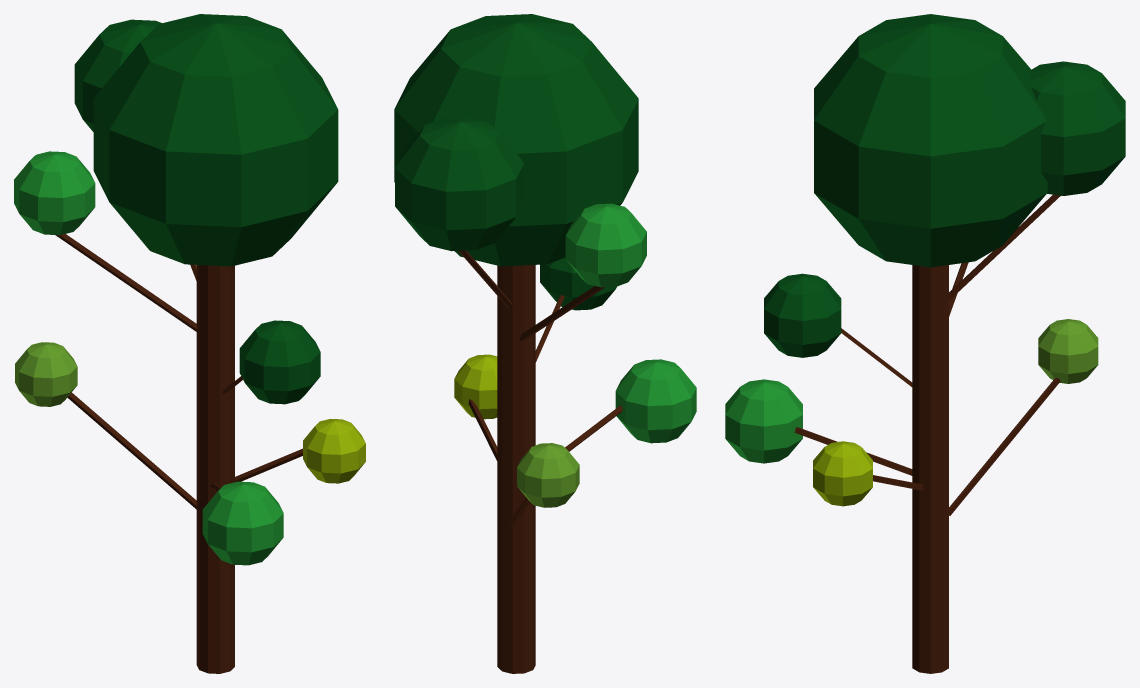
The model's file is jungleTree.fbx.
The picture shows the model from 3 angles, left to right: view 1: azimuth 30°, elevation 25°; view 2: azimuth 150°, elevation 25°; view 3: azimuth 270°, elevation 25°; orthographic projection.
Parts seen in each view (by area): view 1: topTree, trunk, botTreeleaves, topTreeleaves, topTreeleaves1, topTreeleaves2, midTreeleaves, botTreeleaves1, botBranch1, topBranch, botBranch; view 2: topTree, trunk, topTreeleaves2, topTreeleaves1, botTreeleaves, botTreeleaves1, midTreeleaves, topTreeleaves, topBranch, topBranch1, midBranch; view 3: topTree, trunk, topTreeleaves2, topTreeleaves, botTreeleaves, botTreeleaves1, midTreeleaves, botBranch1, topBranch1, midBranch.
Part boxes in pixels (bbox=[...]): topTree: bbox=[93, 14, 338, 266]; trunk: bbox=[196, 265, 234, 673]; botTreeleaves: bbox=[202, 481, 283, 565]; topTreeleaves: bbox=[239, 320, 320, 404]; topTreeleaves1: bbox=[14, 151, 95, 235]; topTreeleaves2: bbox=[74, 19, 161, 131]; midTreeleaves: bbox=[303, 419, 365, 483]; botTreeleaves1: bbox=[15, 342, 77, 406]; botBranch1: bbox=[67, 392, 196, 509]; topBranch: bbox=[55, 234, 196, 331]; botBranch: bbox=[234, 448, 302, 482]; topTree: bbox=[394, 14, 638, 266]; trunk: bbox=[497, 265, 535, 673]; topTreeleaves2: bbox=[395, 117, 524, 251]; topTreeleaves1: bbox=[565, 203, 646, 287]; botTreeleaves: bbox=[615, 359, 696, 443]; botTreeleaves1: bbox=[517, 443, 579, 507]; midTreeleaves: bbox=[454, 354, 497, 419]; topTreeleaves: bbox=[540, 257, 616, 310]; topBranch: bbox=[519, 286, 604, 340]; topBranch1: bbox=[459, 250, 513, 309]; midBranch: bbox=[565, 405, 622, 451]; topTree: bbox=[814, 14, 1047, 267]; trunk: bbox=[912, 265, 948, 673]; topTreeleaves2: bbox=[1030, 61, 1125, 195]; topTreeleaves: bbox=[764, 273, 841, 357]; botTreeleaves: bbox=[725, 379, 802, 463]; botTreeleaves1: bbox=[1038, 319, 1098, 383]; midTreeleaves: bbox=[813, 441, 872, 506]; botBranch1: bbox=[949, 378, 1060, 515]; topBranch1: bbox=[949, 194, 1060, 300]; midBranch: bbox=[794, 427, 912, 475].
Size of the model in its own units: 29.74 by 68.34 by 38.62.
